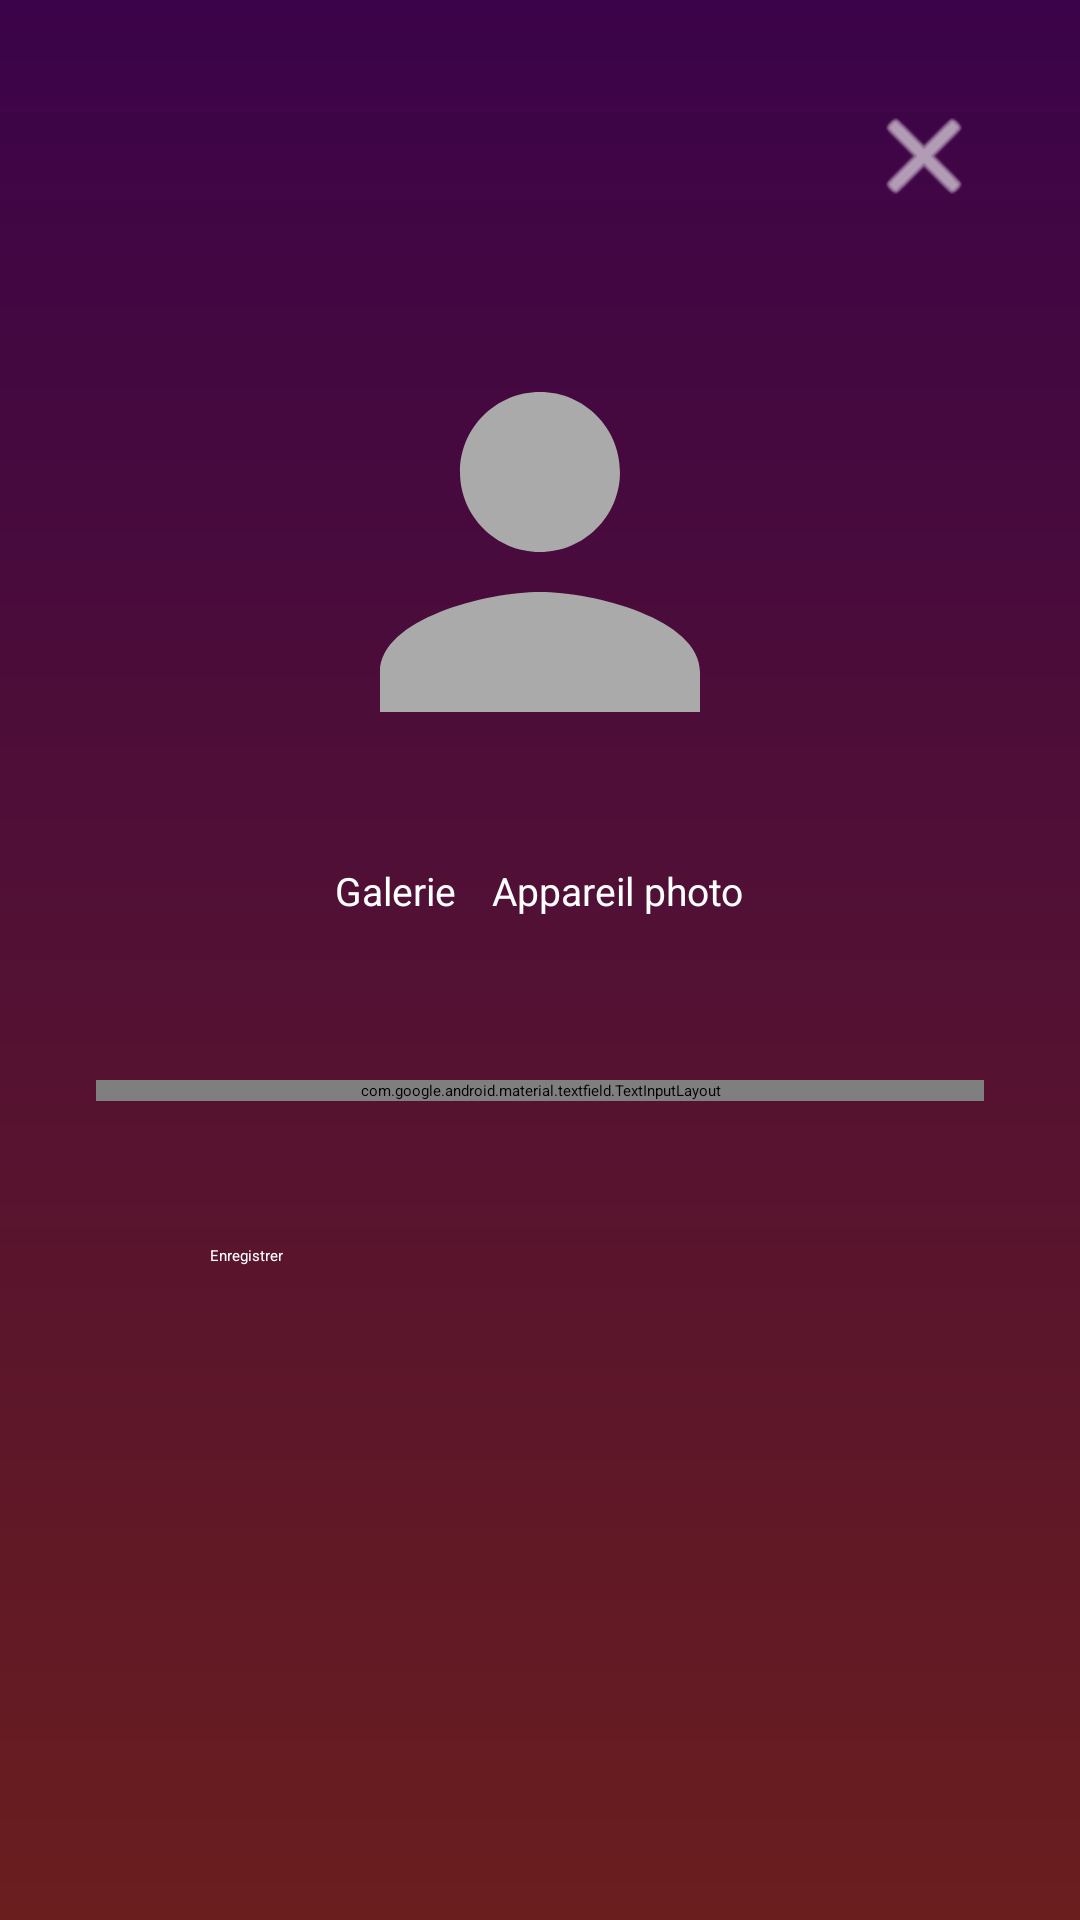

Screen size 1080x1920. Icon name, then its center in pixels as [x,y]:
close clear cancel: [924,156]
